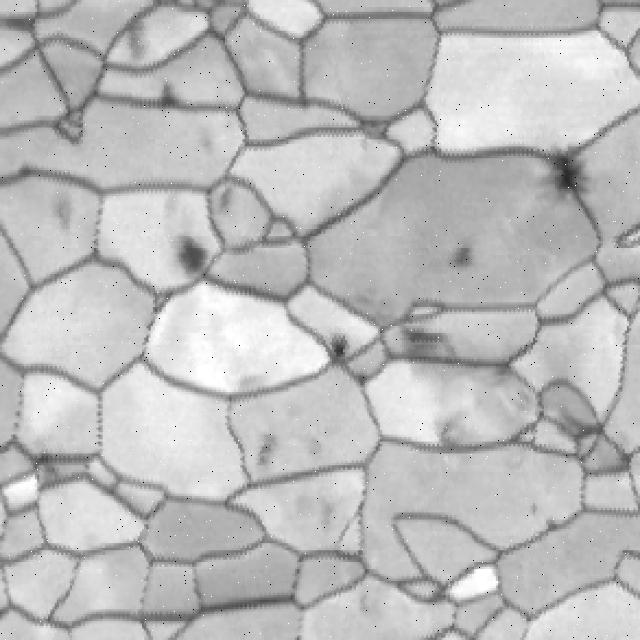good_void: (535, 142, 587, 199), (167, 229, 217, 277), (401, 318, 461, 356), (251, 419, 287, 470), (428, 408, 473, 445), (118, 15, 152, 62), (48, 191, 80, 238), (33, 451, 62, 484), (328, 332, 357, 361), (539, 510, 566, 540), (448, 239, 473, 268), (217, 186, 240, 217), (523, 494, 544, 515), (157, 87, 177, 109)
